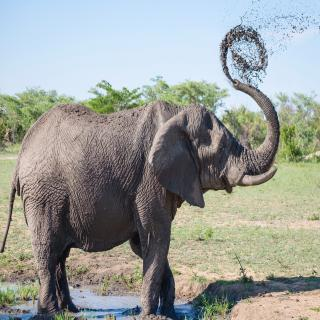Elephant: (3, 78, 283, 320)
